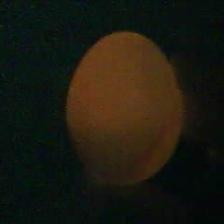fertile: (63, 29, 186, 189)
